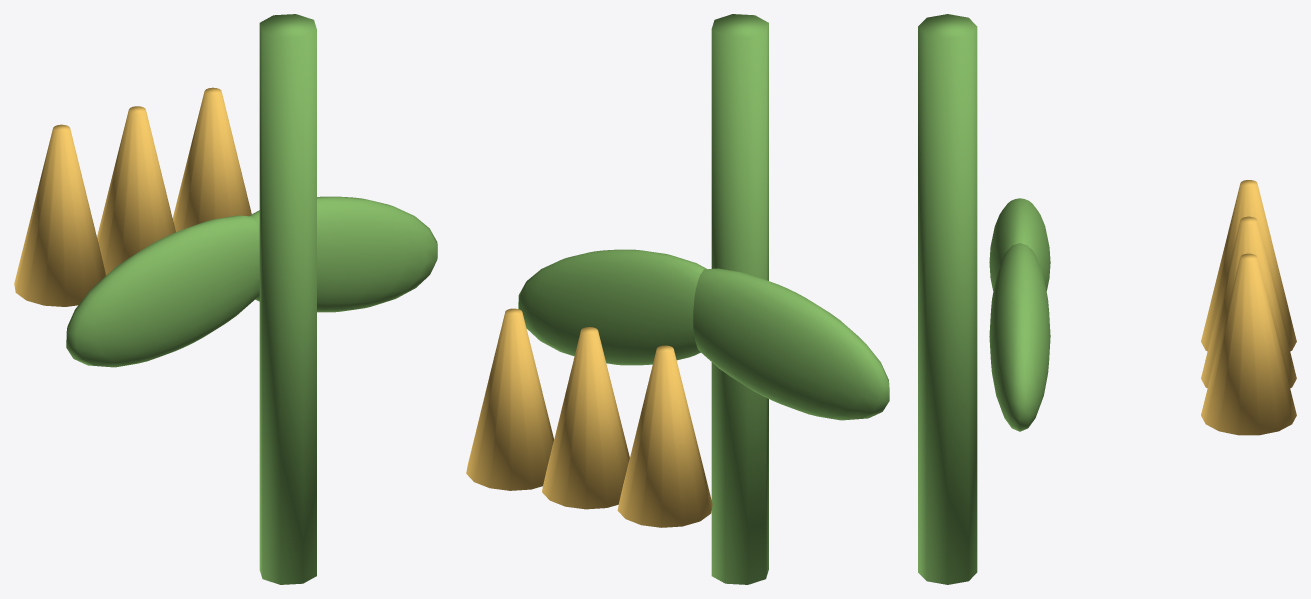
File: wheat_harvest_item.glb
3 views of the same model, side by side, from view 1: azimuth 30°, elevation 25°; view 2: azimuth 150°, elevation 25°; view 3: azimuth 270°, elevation 25° (orthographic).
Visible parts, largest first — view 1: Stem, Leaf, Leaf.001, Grain, Grain.001, Grain.002; view 2: Stem, Leaf, Leaf.001, Grain, Grain.002, Grain.001; view 3: Stem, Grain.002, Leaf.001, Grain.001, Grain, Leaf.
Part boxes in pixels (bbox=[...]): Stem: bbox=[259, 14, 316, 584]; Leaf: bbox=[66, 215, 259, 367]; Leaf.001: bbox=[248, 196, 437, 312]; Grain: bbox=[14, 124, 106, 306]; Grain.001: bbox=[97, 106, 175, 275]; Grain.002: bbox=[172, 87, 251, 231]; Stem: bbox=[711, 14, 768, 584]; Leaf: bbox=[693, 268, 889, 420]; Leaf.001: bbox=[518, 249, 707, 365]; Grain: bbox=[617, 345, 712, 527]; Grain.002: bbox=[466, 308, 553, 490]; Grain.001: bbox=[542, 327, 629, 509]; Stem: bbox=[918, 14, 977, 584]; Grain.002: bbox=[1201, 253, 1296, 435]; Leaf.001: bbox=[989, 243, 1050, 431]; Grain.001: bbox=[1201, 216, 1296, 388]; Grain: bbox=[1201, 180, 1296, 351]; Leaf: bbox=[989, 198, 1050, 290].
Size of the model in its own units: 0.4907 by 0.69 by 0.434.
